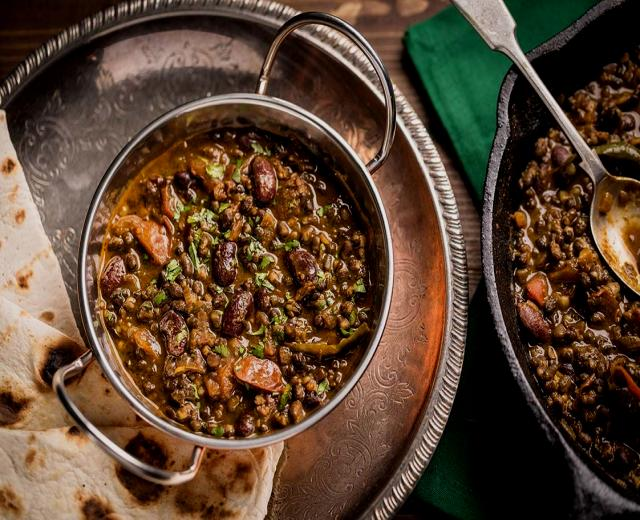dal makhni: (484, 10, 635, 504), (105, 136, 362, 424)
